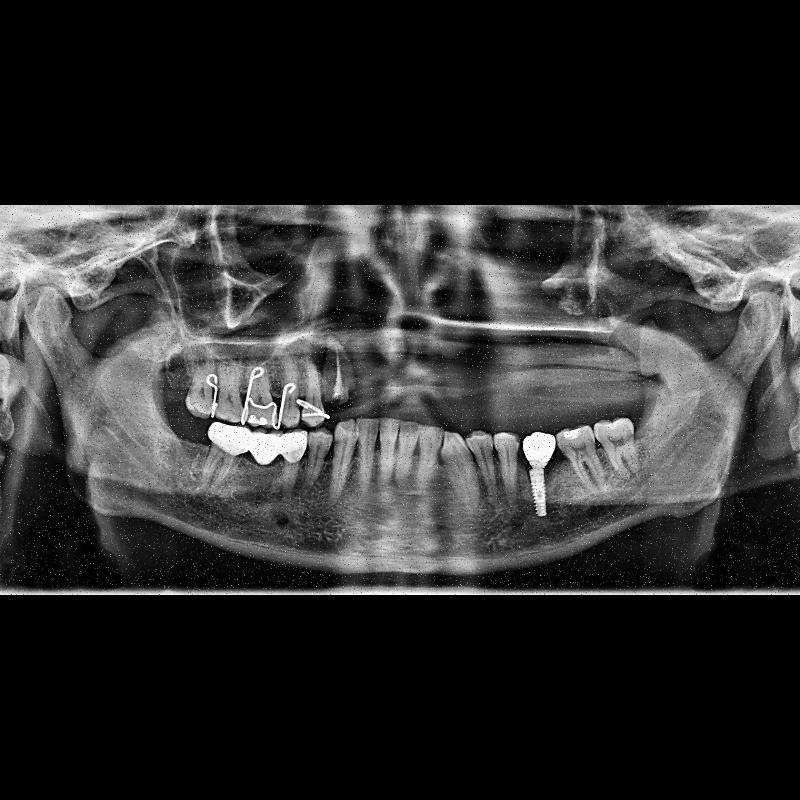NORIS: (528, 468, 550, 518)
